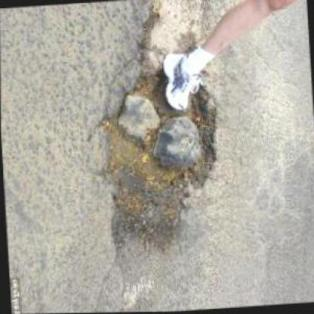Hueco: (97, 64, 225, 258)
